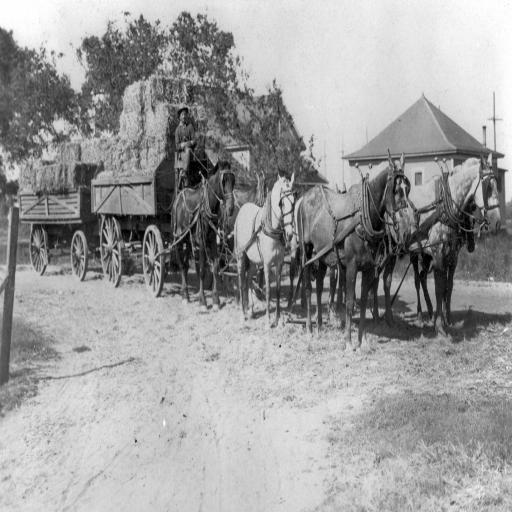Horse: (171, 150, 501, 347)
